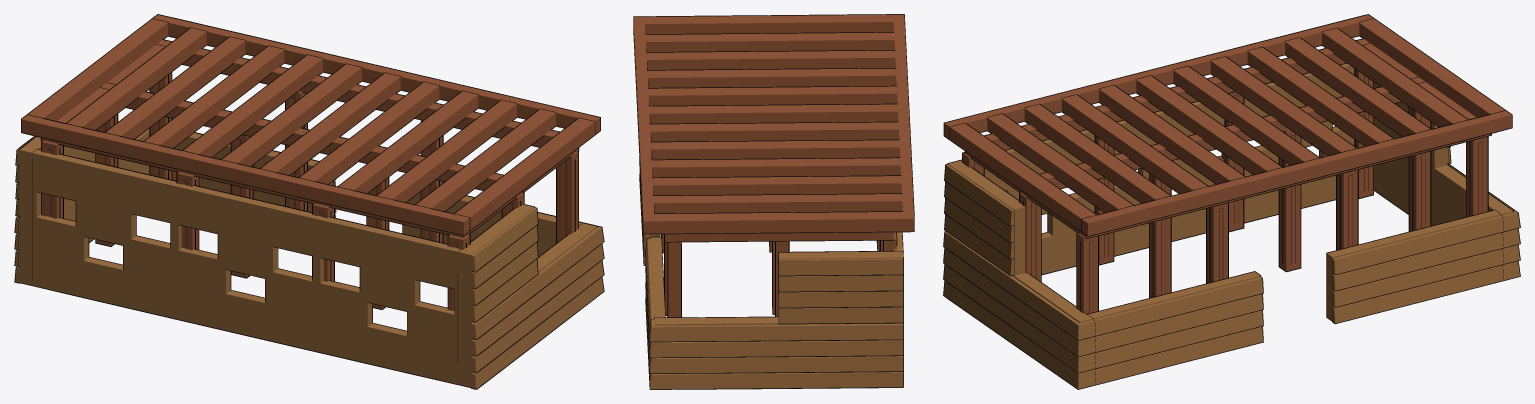
File: building01.glb
3 views of the same model, side by side, from view 1: azimuth 30°, elevation 25°; view 2: azimuth 150°, elevation 25°; view 3: azimuth 270°, elevation 25° (orthographic). The views are drawn at different scales.
Parts seen in each view (by area): view 1: Cube.088, Cube.015, Cube.001, Cube.012; view 2: Cube.088, Cube.001, Cube.012; view 3: Cube.088, Cube.001, Cube.012, Cube.015.
Boxes of the visible parts, x1,y1,x2,y2 form: Cube.088: [18, 14, 600, 388]; Cube.015: [32, 148, 460, 385]; Cube.001: [14, 132, 604, 389]; Cube.012: [41, 72, 578, 310]; Cube.088: [633, 14, 914, 385]; Cube.001: [639, 160, 903, 389]; Cube.012: [661, 232, 897, 317]; Cube.088: [943, 14, 1513, 323]; Cube.001: [943, 146, 1520, 389]; Cube.012: [962, 68, 1488, 313]; Cube.015: [961, 63, 1353, 275].
Size of the model in its own units: 9.03 by 3.37 by 10.53.
